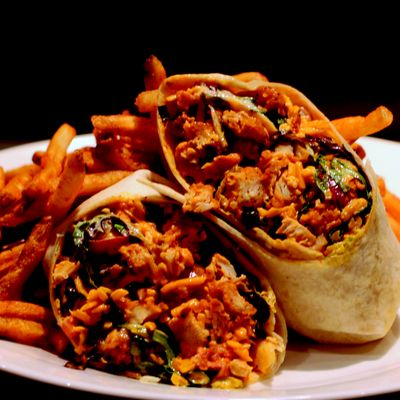soup: (148, 76, 400, 349)
